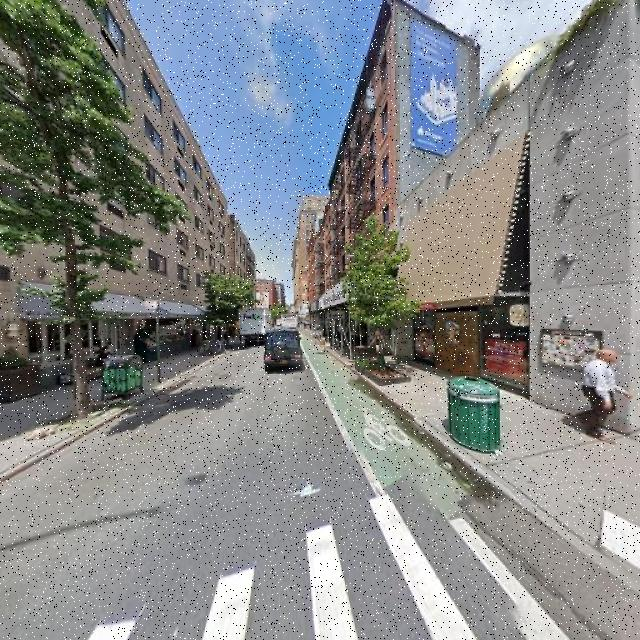Building: (395, 1, 640, 427), (1, 1, 229, 407)
